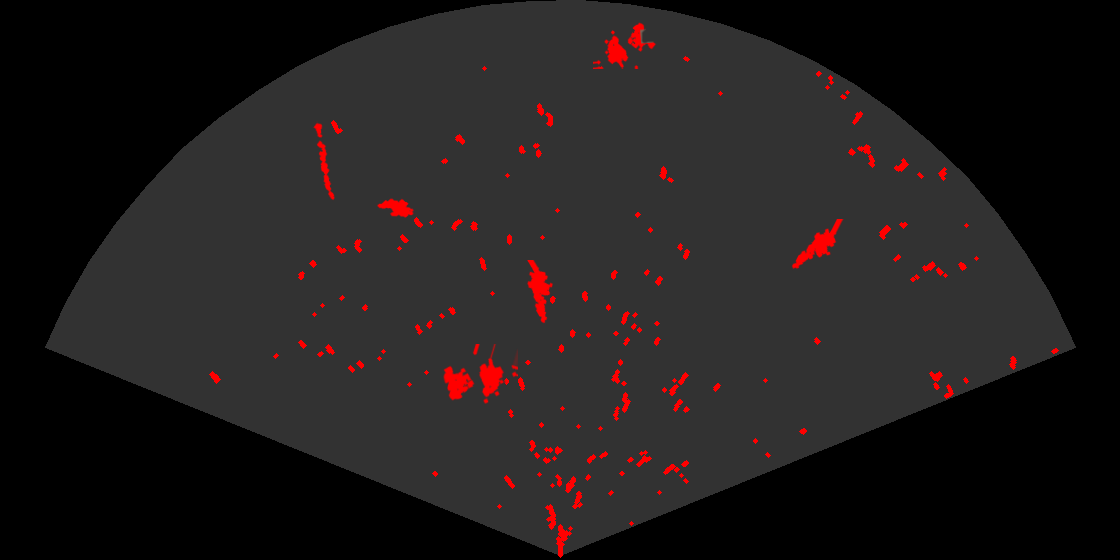AUV: (375, 197, 416, 219)
cage: (442, 344, 518, 406), (593, 21, 658, 69)
chain: (312, 121, 336, 202)
frogman: (790, 219, 844, 271), (526, 260, 554, 325)
